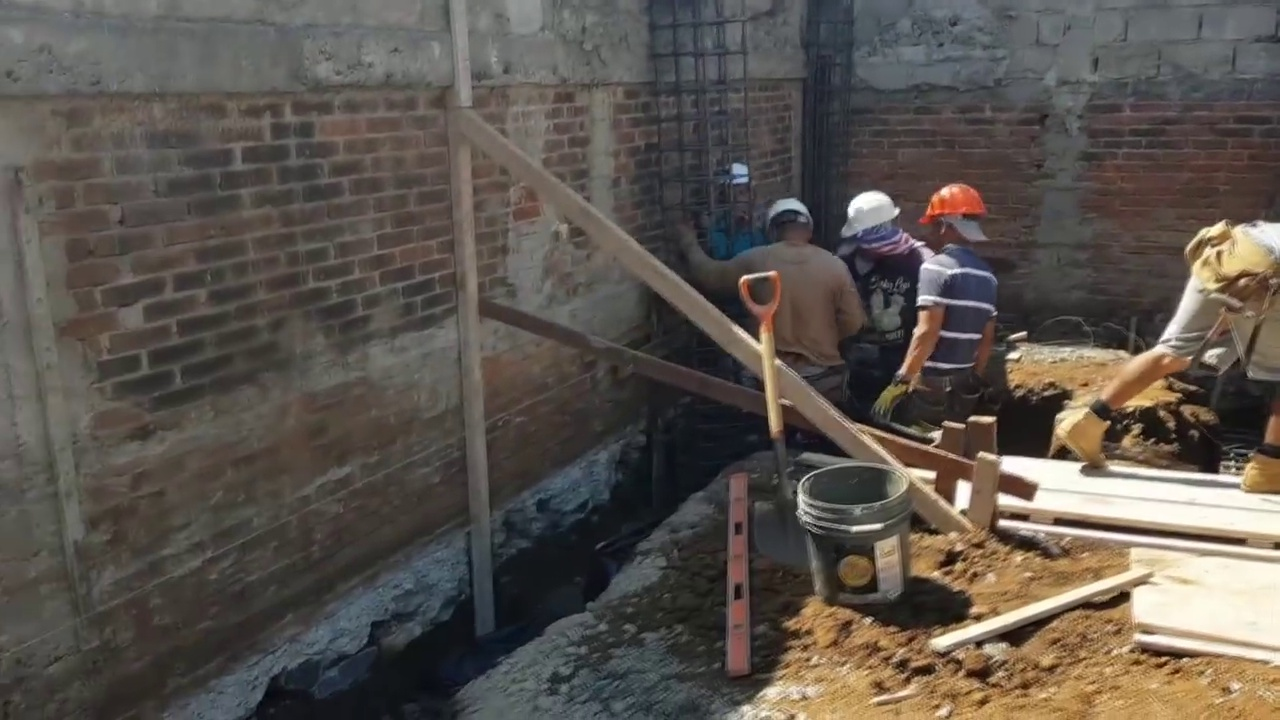helmet: (841, 190, 902, 239), (919, 183, 993, 221), (764, 197, 817, 234), (719, 160, 751, 185)
helmet-on: (918, 180, 993, 254), (842, 186, 903, 256), (763, 192, 818, 246), (719, 159, 754, 212)
person: (1057, 222, 1280, 497), (675, 189, 862, 400), (876, 182, 996, 423), (840, 188, 931, 413), (698, 161, 767, 260)
